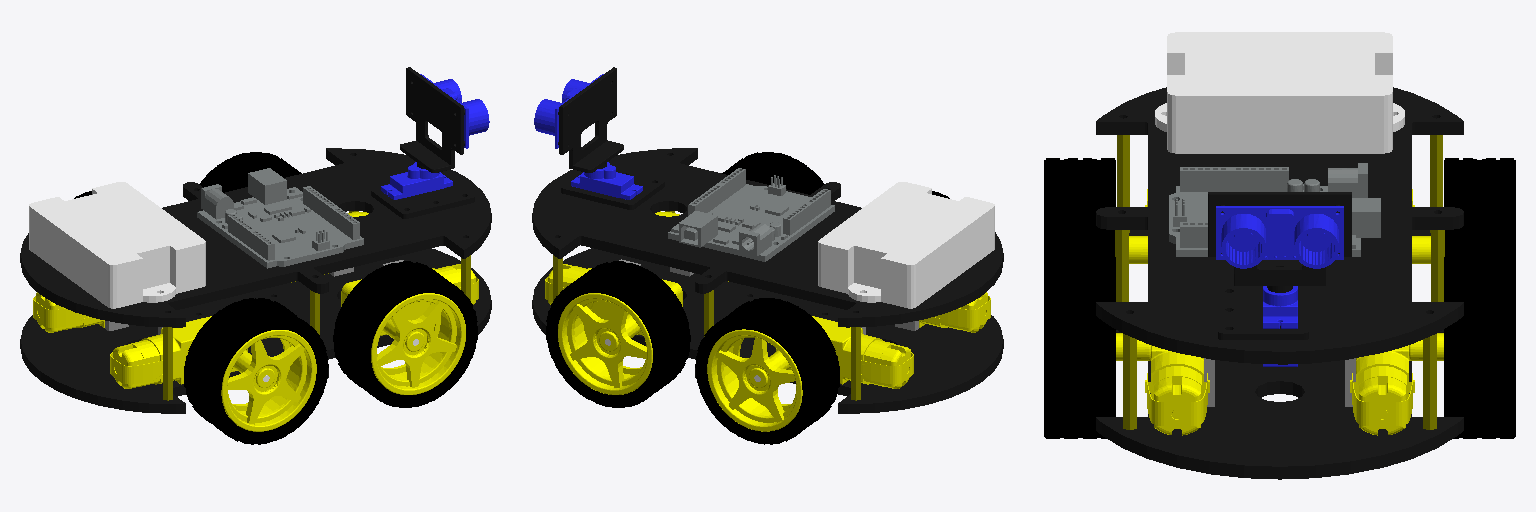
--- What the picture shows (computed from the rendered views, not written in the file) ---
3 views of the same robot in one strip: view 1: azimuth 30°, elevation 25°; view 2: azimuth 150°, elevation 25°; view 3: azimuth 270°, elevation 25° (orthographic).
Model elegoo_car_v3_description with 36 links and 35 joints (5 continuous, 30 fixed), rooted at base_link, posed every joint at zero.
Links seen in each view (by area): view 1: medium_plate, batery, base_link, arduino, neumatic_3, neumatic_4, ring_3, ring_4, ultrasonic_support, motor_3, neumatic_1, servo_base (+5 smaller); view 2: medium_plate, batery, base_link, arduino, neumatic_1, neumatic_2, ring_2, ring_1, ultrasonic_support, motor_2, neumatic_4, servo (+5 smaller); view 3: medium_plate, batery, base_link, neumatic_1, neumatic_4, arduino, ultrasonic_sensor, neumatic_2, neumatic_3, ultrasonic_support, motor_1, motor_4 (+10 smaller).
Link boxes in pixels (x1,y1,x2,y2): medium_plate: [20, 148, 491, 327]; batery: [29, 182, 205, 308]; base_link: [20, 248, 491, 413]; arduino: [197, 168, 363, 268]; neumatic_3: [184, 298, 328, 444]; neumatic_4: [333, 261, 477, 407]; ring_3: [221, 330, 316, 431]; ring_4: [371, 293, 465, 394]; ultrasonic_support: [400, 67, 464, 172]; motor_3: [110, 316, 247, 388]; neumatic_1: [199, 152, 301, 192]; servo_base: [371, 172, 474, 218]; medium_plate: [532, 148, 1003, 327]; batery: [818, 182, 994, 308]; base_link: [532, 248, 1003, 413]; arduino: [668, 168, 834, 261]; neumatic_1: [546, 261, 690, 407]; neumatic_2: [695, 298, 839, 444]; ring_2: [707, 329, 802, 431]; ring_1: [558, 293, 652, 394]; ultrasonic_support: [558, 67, 623, 172]; motor_2: [776, 316, 913, 388]; neumatic_4: [722, 152, 824, 194]; servo: [571, 162, 642, 199]; medium_plate: [1096, 87, 1463, 364]; batery: [1155, 32, 1404, 153]; base_link: [1096, 230, 1463, 479]; neumatic_1: [1444, 255, 1515, 438]; neumatic_4: [1044, 255, 1115, 438]; arduino: [1169, 163, 1380, 256]; ultrasonic_sensor: [1216, 206, 1343, 268]; neumatic_2: [1444, 158, 1515, 257]; neumatic_3: [1044, 158, 1115, 257]; ultrasonic_support: [1208, 192, 1351, 292]; motor_1: [1350, 345, 1414, 435]; motor_4: [1145, 345, 1209, 435].
Size in the robot's own frame: 0.2345 by 0.1671 by 0.1197 metres.
35 mesh visuals loaded from 35 distinct referenced files (35 binary STL).

URDF robot description (elegoo_car_v3_description):
<?xml version="1.0" encoding="utf-8"?>
<!-- This URDF was automatically created by SolidWorks to URDF Exporter! Originally created by Stephen Brawner ([email redacted]) 
     Commit Version: 1.6.0-4-g7f85cfe  Build Version: 1.6.7995.38578
     For more information, please see http://wiki.ros.org/sw_urdf_exporter -->
<robot
  name="elegoo_car_v3_description">
  <link
    name="base_link">
    <inertial>
      <origin
        xyz="7.8956E-05 3.7218E-10 0.01835"
        rpy="0 0 0" />
      <mass
        value="0.12979" />
      <inertia
        ixx="0.00011062"
        ixy="2.9142E-12"
        ixz="-9.523E-20"
        iyy="0.00055967"
        iyz="7.1958E-20"
        izz="0.00066974" />
    </inertial>
    <visual>
      <origin
        xyz="0 0 0"
        rpy="0 0 0" />
      <geometry>
        <mesh
          filename="package://elegoo_car_v3_description/meshes/base_link.STL" />
      </geometry>
      <material
        name="">
        <color
          rgba="0.1254 0.1254 0.1254 0.9" />
      </material>
    </visual>
    <collision>
      <origin
        xyz="0 0 0"
        rpy="0 0 0" />
      <geometry>
        <mesh
          filename="package://elegoo_car_v3_description/meshes/base_link.STL" />
      </geometry>
    </collision>
  </link>
  <link
    name="support_1">
    <inertial>
      <origin
        xyz="0.0206 -0.002 0.0022054"
        rpy="0 0 0" />
      <mass
        value="0.002712" />
      <inertia
        ixx="1.3812E-07"
        ixy="-1.5174E-12"
        ixz="-1.1415E-22"
        iyy="1.4133E-07"
        iyz="2.5856E-23"
        izz="1.0916E-08" />
    </inertial>
    <visual>
      <origin
        xyz="0 0 0"
        rpy="0 0 0" />
      <geometry>
        <mesh
          filename="package://elegoo_car_v3_description/meshes/support_1.STL" />
      </geometry>
      <material
        name="">
        <color
          rgba="0.6274 0.6274 0.6274 1" />
      </material>
    </visual>
    <collision>
      <origin
        xyz="0 0 0"
        rpy="0 0 0" />
      <geometry>
        <mesh
          filename="package://elegoo_car_v3_description/meshes/support_1.STL" />
      </geometry>
    </collision>
  </link>
  <joint
    name="base_to_support_1"
    type="fixed">
    <origin
      xyz="0.040775 0.027 0.03195"
      rpy="0 0 0" />
    <parent
      link="base_link" />
    <child
      link="support_1" />
    <axis
      xyz="0 0 0" />
  </joint>
  <link
    name="motor_1">
    <inertial>
      <origin
        xyz="0.020411 0.0094 2.237E-11"
        rpy="0 0 0" />
      <mass
        value="0.031419" />
      <inertia
        ixx="2.0235E-06"
        ixy="1.6886E-14"
        ixz="-1.2125E-14"
        iyy="1.1082E-05"
        iyz="-1.6357E-14"
        izz="1.0806E-05" />
    </inertial>
    <visual>
      <origin
        xyz="0 0 0"
        rpy="0 0 0" />
      <geometry>
        <mesh
          filename="package://elegoo_car_v3_description/meshes/motor_1.STL" />
      </geometry>
      <material
        name="">
        <color
          rgba="1 1 0 1" />
      </material>
    </visual>
    <collision>
      <origin
        xyz="0 0 0"
        rpy="0 0 0" />
      <geometry>
        <mesh
          filename="package://elegoo_car_v3_description/meshes/motor_1.STL" />
      </geometry>
    </collision>
  </link>
  <joint
    name="support_to_motor_1"
    type="fixed">
    <origin
      xyz="0 0 0"
      rpy="0 0 0" />
    <parent
      link="support_1" />
    <child
      link="motor_1" />
    <axis
      xyz="0 0 0" />
  </joint>
  <link
    name="shaft_1">
    <inertial>
      <origin
        xyz="0 0.02675 3.46944695195361E-18"
        rpy="0 0 0" />
      <mass
        value="0.000688404533635746" />
      <inertia
        ixx="1.64741049166689E-07"
        ixy="-4.60027404729313E-24"
        ixz="1.12714129041243E-26"
        iyy="1.08445226689306E-09"
        iyz="-1.34835384402889E-26"
        izz="1.64741049166689E-07" />
    </inertial>
    <visual>
      <origin
        xyz="0 0 0"
        rpy="0 0 0" />
      <geometry>
        <mesh
          filename="package://elegoo_car_v3_description/meshes/shaft_1.STL" />
      </geometry>
      <material
        name="">
        <color
          rgba="1 1 1 1" />
      </material>
    </visual>
    <collision>
      <origin
        xyz="0 0 0"
        rpy="0 0 0" />
      <geometry>
        <mesh
          filename="package://elegoo_car_v3_description/meshes/shaft_1.STL" />
      </geometry>
    </collision>
  </link>
  <joint
    name="motor_to_shaft_1"
    type="continuous">
    <origin
      xyz="0 0 0"
      rpy="0 0 0" />
    <parent
      link="motor_1" />
    <child
      link="shaft_1" />
    <axis
      xyz="0 1 0" />
    <limit
      effort="0.09807"
      velocity="23" />
  </joint>
  <link
    name="ring_1">
    <inertial>
      <origin
        xyz="-3.5564E-09 0.043828 -9.0266E-10"
        rpy="0 0 0" />
      <mass
        value="0.022657" />
      <inertia
        ixx="6.7493E-06"
        ixy="4.2926E-13"
        ixz="-1.1158E-12"
        iyy="1.0295E-05"
        iyz="1.0895E-13"
        izz="6.7493E-06" />
    </inertial>
    <visual>
      <origin
        xyz="0 0 0"
        rpy="0 0 0" />
      <geometry>
        <mesh
          filename="package://elegoo_car_v3_description/meshes/ring_1.STL" />
      </geometry>
      <material
        name="">
        <color
          rgba="1 1 0 1" />
      </material>
    </visual>
    <collision>
      <origin
        xyz="0 0 0"
        rpy="0 0 0" />
      <geometry>
        <mesh
          filename="package://elegoo_car_v3_description/meshes/ring_1.STL" />
      </geometry>
    </collision>
  </link>
  <joint
    name="shaft_to_ring_1"
    type="fixed">
    <origin
      xyz="0 0 0"
      rpy="0 0 0" />
    <parent
      link="shaft_1" />
    <child
      link="ring_1" />
    <axis
      xyz="0 0 0" />
    <limit
      effort="0.07845"
      velocity="23" />
  </joint>
  <link
    name="neumatic_1">
    <inertial>
      <origin
        xyz="-2.7756E-17 0.04378 1.3878E-17"
        rpy="0 0 0" />
      <mass
        value="0.038076" />
      <inertia
        ixx="1.8373E-05"
        ixy="1.3492E-17"
        ixz="3.3873E-16"
        iyy="3.2593E-05"
        iyz="-1.1594E-17"
        izz="1.8373E-05" />
    </inertial>
    <visual>
      <origin
        xyz="0 0 0"
        rpy="0 0 0" />
      <geometry>
        <mesh
          filename="package://elegoo_car_v3_description/meshes/neumatic_1.STL" />
      </geometry>
      <material
        name="">
        <color
          rgba="0 0 0 1" />
      </material>
    </visual>
    <collision>
      <origin
        xyz="0 0 0"
        rpy="0 0 0" />
      <geometry>
        <mesh
          filename="package://elegoo_car_v3_description/meshes/neumatic_1.STL" />
      </geometry>
    </collision>
  </link>
  <joint
    name="ring_to_neumatic_1"
    type="fixed">
    <origin
      xyz="0 0 0"
      rpy="0 0 0" />
    <parent
      link="ring_1" />
    <child
      link="neumatic_1" />
    <axis
      xyz="0 0 0" />
  </joint>
  <link
    name="support_2">
    <inertial>
      <origin
        xyz="-0.0206 -0.002 0.0022054"
        rpy="0 0 0" />
      <mass
        value="0.002712" />
      <inertia
        ixx="1.3812E-07"
        ixy="-1.5174E-12"
        ixz="1.9439E-22"
        iyy="1.4133E-07"
        iyz="-3.7245E-23"
        izz="1.0916E-08" />
    </inertial>
    <visual>
      <origin
        xyz="0 0 0"
        rpy="0 0 0" />
      <geometry>
        <mesh
          filename="package://elegoo_car_v3_description/meshes/support_2.STL" />
      </geometry>
      <material
        name="">
        <color
          rgba="0.6274 0.6274 0.6274 1" />
      </material>
    </visual>
    <collision>
      <origin
        xyz="0 0 0"
        rpy="0 0 0" />
      <geometry>
        <mesh
          filename="package://elegoo_car_v3_description/meshes/support_2.STL" />
      </geometry>
    </collision>
  </link>
  <joint
    name="base_to_support_2"
    type="fixed">
    <origin
      xyz="-0.040775 0.027 0.03195"
      rpy="0 0 0" />
    <parent
      link="base_link" />
    <child
      link="support_2" />
    <axis
      xyz="0 0 0" />
  </joint>
  <link
    name="motor_2">
    <inertial>
      <origin
        xyz="-0.020411 0.0094 1.0389E-11"
        rpy="0 0 0" />
      <mass
        value="0.031419" />
      <inertia
        ixx="2.0235E-06"
        ixy="1.5445E-14"
        ixz="9.891E-15"
        iyy="1.1082E-05"
        iyz="1.8979E-14"
        izz="1.0806E-05" />
    </inertial>
    <visual>
      <origin
        xyz="0 0 0"
        rpy="0 0 0" />
      <geometry>
        <mesh
          filename="package://elegoo_car_v3_description/meshes/motor_2.STL" />
      </geometry>
      <material
        name="">
        <color
          rgba="1 1 0 1" />
      </material>
    </visual>
    <collision>
      <origin
        xyz="0 0 0"
        rpy="0 0 0" />
      <geometry>
        <mesh
          filename="package://elegoo_car_v3_description/meshes/motor_2.STL" />
      </geometry>
    </collision>
  </link>
  <joint
    name="support_to_motor_2"
    type="fixed">
    <origin
      xyz="0 0 0"
      rpy="0 0 0" />
    <parent
      link="support_2" />
    <child
      link="motor_2" />
    <axis
      xyz="0 0 0" />
  </joint>
  <link
    name="shaft_2">
    <inertial>
      <origin
        xyz="6.93889390390723E-18 0.02675 0"
        rpy="0 0 0" />
      <mass
        value="0.000688404533635747" />
      <inertia
        ixx="1.64741049166689E-07"
        ixy="2.68259366052437E-24"
        ixz="5.24715774636095E-26"
        iyy="1.08445226689306E-09"
        iyz="-4.92903635132482E-25"
        izz="1.64741049166689E-07" />
    </inertial>
    <visual>
      <origin
        xyz="0 0 0"
        rpy="0 0 0" />
      <geometry>
        <mesh
          filename="package://elegoo_car_v3_description/meshes/shaft_2.STL" />
      </geometry>
      <material
        name="">
        <color
          rgba="1 1 1 1" />
      </material>
    </visual>
    <collision>
      <origin
        xyz="0 0 0"
        rpy="0 0 0" />
      <geometry>
        <mesh
          filename="package://elegoo_car_v3_description/meshes/shaft_2.STL" />
      </geometry>
    </collision>
  </link>
  <joint
    name="motor_to_shaft_2"
    type="continuous">
    <origin
      xyz="0 0 0"
      rpy="0 0 0" />
    <parent
      link="motor_2" />
    <child
      link="shaft_2" />
    <axis
      xyz="0 1 0" />
    <limit
      effort="0.09807"
      velocity="23" />
  </joint>
  <link
    name="ring_2">
    <inertial>
      <origin
        xyz="2.7485E-09 0.043828 -2.4307E-09"
        rpy="0 0 0" />
      <mass
        value="0.022657" />
      <inertia
        ixx="6.7493E-06"
        ixy="-3.3175E-13"
        ixz="1.4399E-12"
        iyy="1.0295E-05"
        iyz="2.9339E-13"
        izz="6.7493E-06" />
    </inertial>
    <visual>
      <origin
        xyz="0 0 0"
        rpy="0 0 0" />
      <geometry>
        <mesh
          filename="package://elegoo_car_v3_description/meshes/ring_2.STL" />
      </geometry>
      <material
        name="">
        <color
          rgba="1 1 0 1" />
      </material>
    </visual>
    <collision>
      <origin
        xyz="0 0 0"
        rpy="0 0 0" />
      <geometry>
        <mesh
          filename="package://elegoo_car_v3_description/meshes/ring_2.STL" />
      </geometry>
    </collision>
  </link>
  <joint
    name="shaft_to_ring_2"
    type="fixed">
    <origin
      xyz="0 0 0"
      rpy="0 0 0" />
    <parent
      link="shaft_2" />
    <child
      link="ring_2" />
    <axis
      xyz="0 0 0" />
    <limit
      effort="0.07845"
      velocity="23" />
  </joint>
  <link
    name="neumatic_2">
    <inertial>
      <origin
        xyz="6.9389E-18 0.04378 2.0817E-17"
        rpy="0 0 0" />
      <mass
        value="0.038076" />
      <inertia
        ixx="1.8373E-05"
        ixy="7.4015E-18"
        ixz="-2.6398E-16"
        iyy="3.2593E-05"
        iyz="-1.6176E-17"
        izz="1.8373E-05" />
    </inertial>
    <visual>
      <origin
        xyz="0 0 0"
        rpy="0 0 0" />
      <geometry>
        <mesh
          filename="package://elegoo_car_v3_description/meshes/neumatic_2.STL" />
      </geometry>
      <material
        name="">
        <color
          rgba="0 0 0 1" />
      </material>
    </visual>
    <collision>
      <origin
        xyz="0 0 0"
        rpy="0 0 0" />
      <geometry>
        <mesh
          filename="package://elegoo_car_v3_description/meshes/neumatic_2.STL" />
      </geometry>
    </collision>
  </link>
  <joint
    name="ring_to_neumatic_2"
    type="fixed">
    <origin
      xyz="0 0 0"
      rpy="0 0 0" />
    <parent
      link="ring_2" />
    <child
      link="neumatic_2" />
    <axis
      xyz="0 0 0" />
  </joint>
  <link
    name="support_3">
    <inertial>
      <origin
        xyz="-0.0206 0.002 0.0022054"
        rpy="0 0 0" />
      <mass
        value="0.002712" />
      <inertia
        ixx="1.3812E-07"
        ixy="-1.5174E-12"
        ixz="1.2242E-22"
        iyy="1.4133E-07"
        iyz="2.0553E-23"
        izz="1.0916E-08" />
    </inertial>
    <visual>
      <origin
        xyz="0 0 0"
        rpy="0 0 0" />
      <geometry>
        <mesh
          filename="package://elegoo_car_v3_description/meshes/support_3.STL" />
      </geometry>
      <material
        name="">
        <color
          rgba="0.6274 0.6274 0.6274 1" />
      </material>
    </visual>
    <collision>
      <origin
        xyz="0 0 0"
        rpy="0 0 0" />
      <geometry>
        <mesh
          filename="package://elegoo_car_v3_description/meshes/support_3.STL" />
      </geometry>
    </collision>
  </link>
  <joint
    name="base_to_support_3"
    type="fixed">
    <origin
      xyz="-0.040775 -0.027 0.03195"
      rpy="0 0 0" />
    <parent
      link="base_link" />
    <child
      link="support_3" />
    <axis
      xyz="0 0 0" />
  </joint>
  <link
    name="motor_3">
    <inertial>
      <origin
        xyz="-0.020411 -0.0094 2.237E-11"
        rpy="0 0 0" />
      <mass
        value="0.031419" />
      <inertia
        ixx="2.0235E-06"
        ixy="1.6886E-14"
        ixz="1.2125E-14"
        iyy="1.1082E-05"
        iyz="1.6357E-14"
        izz="1.0806E-05" />
    </inertial>
    <visual>
      <origin
        xyz="0 0 0"
        rpy="0 0 0" />
      <geometry>
        <mesh
          filename="package://elegoo_car_v3_description/meshes/motor_3.STL" />
      </geometry>
      <material
        name="">
        <color
          rgba="1 1 0 1" />
      </material>
    </visual>
    <collision>
      <origin
        xyz="0 0 0"
        rpy="0 0 0" />
      <geometry>
        <mesh
          filename="package://elegoo_car_v3_description/meshes/motor_3.STL" />
      </geometry>
    </collision>
  </link>
  <joint
    name="support_to_motor_3"
    type="fixed">
    <origin
      xyz="0 0 0"
      rpy="0 0 0" />
    <parent
      link="support_3" />
    <child
      link="motor_3" />
    <axis
      xyz="0 0 0" />
  </joint>
  <link
    name="shaft_3">
    <inertial>
      <origin
        xyz="6.93889390390723E-18 -0.02675 0"
        rpy="0 0 0" />
      <mass
        value="0.000688404533635747" />
      <inertia
        ixx="1.64741049166689E-07"
        ixy="-4.60027404729314E-24"
        ixz="7.87248683893647E-26"
        iyy="1.08445226689306E-09"
        iyz="1.33338562613337E-25"
        izz="1.64741049166689E-07" />
    </inertial>
    <visual>
      <origin
        xyz="0 0 0"
        rpy="0 0 0" />
      <geometry>
        <mesh
          filename="package://elegoo_car_v3_description/meshes/shaft_3.STL" />
      </geometry>
      <material
        name="">
        <color
          rgba="1 1 1 1" />
      </material>
    </visual>
    <collision>
      <origin
        xyz="0 0 0"
        rpy="0 0 0" />
      <geometry>
        <mesh
          filename="package://elegoo_car_v3_description/meshes/shaft_3.STL" />
      </geometry>
    </collision>
  </link>
  <joint
    name="motor_to_shaft_3"
    type="continuous">
    <origin
      xyz="0 0 0"
      rpy="0 0 0" />
    <parent
      link="motor_3" />
    <child
      link="shaft_3" />
    <axis
      xyz="0 1 0" />
    <limit
      effort="0.09807"
      velocity="23" />
  </joint>
  <link
    name="ring_3">
    <inertial>
      <origin
        xyz="-3.5564E-09 -0.043828 9.0266E-10"
        rpy="0 0 0" />
      <mass
        value="0.022657" />
      <inertia
        ixx="6.7493E-06"
        ixy="-4.2926E-13"
        ixz="1.1158E-12"
        iyy="1.0295E-05"
        iyz="1.0895E-13"
        izz="6.7493E-06" />
    </inertial>
    <visual>
      <origin
        xyz="0 0 0"
        rpy="0 0 0" />
      <geometry>
        <mesh
          filename="package://elegoo_car_v3_description/meshes/ring_3.STL" />
      </geometry>
      <material
        name="">
        <color
          rgba="1 1 0 1" />
      </material>
    </visual>
    <collision>
      <origin
        xyz="0 0 0"
        rpy="0 0 0" />
      <geometry>
        <mesh
          filename="package://elegoo_car_v3_description/meshes/ring_3.STL" />
      </geometry>
    </collision>
  </link>
  <joint
    name="shaft_to_ring_3"
    type="fixed">
    <origin
      xyz="0 0 0"
      rpy="0 0 0" />
    <parent
      link="shaft_3" />
    <child
      link="ring_3" />
    <axis
      xyz="0 0 0" />
    <limit
      effort="0.07845"
      velocity="23" />
  </joint>
  <link
    name="neumatic_3">
    <inertial>
      <origin
        xyz="1.3878E-17 -0.04378 2.4286E-17"
        rpy="0 0 0" />
      <mass
        value="0.038076" />
      <inertia
        ixx="1.8373E-05"
        ixy="1.3484E-17"
        ixz="-3.3873E-16"
        iyy="3.2593E-05"
        iyz="1.1589E-17"
        izz="1.8373E-05" />
    </inertial>
    <visual>
      <origin
        xyz="0 0 0"
        rpy="0 0 0" />
      <geometry>
        <mesh
          filename="package://elegoo_car_v3_description/meshes/neumatic_3.STL" />
      </geometry>
      <material
        name="">
        <color
          rgba="0 0 0 1" />
      </material>
    </visual>
    <collision>
      <origin
        xyz="0 0 0"
        rpy="0 0 0" />
      <geometry>
        <mesh
          filename="package://elegoo_car_v3_description/meshes/neumatic_3.STL" />
      </geometry>
    </collision>
  </link>
  <joint
    name="ring_to_neumatic_3"
    type="fixed">
    <origin
      xyz="0 0 0"
      rpy="0 0 0" />
    <parent
      link="ring_3" />
    <child
      link="neumatic_3" />
    <axis
      xyz="0 0 0" />
  </joint>
  <link
    name="suppport_4">
    <inertial>
      <origin
        xyz="0.0206 0.002 0.0022054"
        rpy="0 0 0" />
      <mass
        value="0.002712" />
      <inertia
        ixx="1.3812E-07"
        ixy="-1.5174E-12"
        ixz="-1.9646E-22"
        iyy="1.4133E-07"
        iyz="2.1907E-24"
        izz="1.0916E-08" />
    </inertial>
    <visual>
      <origin
        xyz="0 0 0"
        rpy="0 0 0" />
      <geometry>
        <mesh
          filename="package://elegoo_car_v3_description/meshes/suppport_4.STL" />
      </geometry>
      <material
        name="">
        <color
          rgba="0.6274 0.6274 0.6274 1" />
      </material>
    </visual>
    <collision>
      <origin
        xyz="0 0 0"
        rpy="0 0 0" />
      <geometry>
        <mesh
          filename="package://elegoo_car_v3_description/meshes/suppport_4.STL" />
      </geometry>
    </collision>
  </link>
  <joint
    name="base_to_support_4"
    type="fixed">
    <origin
      xyz="0.040775 -0.027 0.03195"
      rpy="0 0 0" />
    <parent
      link="base_link" />
    <child
      link="suppport_4" />
    <axis
      xyz="0 0 0" />
  </joint>
  <link
    name="motor_4">
    <inertial>
      <origin
        xyz="0.020411 -0.0094 1.0389E-11"
        rpy="0 0 0" />
      <mass
        value="0.031419" />
      <inertia
        ixx="2.0235E-06"
        ixy="1.5445E-14"
        ixz="-9.891E-15"
        iyy="1.1082E-05"
        iyz="-1.8979E-14"
        izz="1.0806E-05" />
    </inertial>
    <visual>
      <origin
        xyz="0 0 0"
        rpy="0 0 0" />
      <geometry>
        <mesh
          filename="package://elegoo_car_v3_description/meshes/motor_4.STL" />
      </geometry>
      <material
        name="">
        <color
          rgba="1 1 0 1" />
      </material>
    </visual>
    <collision>
      <origin
        xyz="0 0 0"
        rpy="0 0 0" />
      <geometry>
        <mesh
          filename="package://elegoo_car_v3_description/meshes/motor_4.STL" />
      </geometry>
    </collision>
  </link>
  <joint
    name="support_to_motor_4"
    type="fixed">
    <origin
      xyz="0 0 0"
      rpy="0 0 0" />
    <parent
      link="suppport_4" />
    <child
      link="motor_4" />
    <axis
      xyz="0 0 0" />
  </joint>
  <link
    name="shaft_4">
    <inertial>
      <origin
        xyz="0 -0.02675 3.46944695195361E-18"
        rpy="0 0 0" />
      <mass
        value="0.000688404533635747" />
      <inertia
        ixx="1.64741049166689E-07"
        ixy="2.68259366052437E-24"
        ixz="-5.24715774636095E-26"
        iyy="1.08445226689306E-09"
        iyz="4.92903635132482E-25"
        izz="1.64741049166689E-07" />
    </inertial>
    <visual>
      <origin
        xyz="0 0 0"
        rpy="0 0 0" />
      <geometry>
        <mesh
          filename="package://elegoo_car_v3_description/meshes/shaft_4.STL" />
      </geometry>
      <material
        name="">
        <color
          rgba="1 1 1 1" />
      </material>
    </visual>
    <collision>
      <origin
        xyz="0 0 0"
        rpy="0 0 0" />
      <geometry>
        <mesh
          filename="package://elegoo_car_v3_description/meshes/shaft_4.STL" />
      </geometry>
    </collision>
  </link>
  <joint
    name="motor_to_shaft_4"
    type="continuous">
    <origin
      xyz="0 0 0"
      rpy="0 0 0" />
    <parent
      link="motor_4" />
    <child
      link="shaft_4" />
    <axis
      xyz="0 1 0" />
    <limit
      effort="0.09807"
      velocity="23" />
  </joint>
  <link
    name="ring_4">
    <inertial>
      <origin
        xyz="2.7485E-09 -0.043828 2.4307E-09"
        rpy="0 0 0" />
      <mass
        value="0.022657" />
      <inertia
        ixx="6.7493E-06"
        ixy="3.3175E-13"
        ixz="-1.4399E-12"
        iyy="1.0295E-05"
        iyz="2.9339E-13"
        izz="6.7493E-06" />
    </inertial>
    <visual>
      <origin
        xyz="0 0 0"
        rpy="0 0 0" />
      <geometry>
        <mesh
          filename="package://elegoo_car_v3_description/meshes/ring_4.STL" />
      </geometry>
      <material
        name="">
        <color
          rgba="1 1 0 1" />
      </material>
    </visual>
    <collision>
      <origin
        xyz="0 0 0"
        rpy="0 0 0" />
      <geometry>
        <mesh
          filename="package://elegoo_car_v3_description/meshes/ring_4.STL" />
      </geometry>
    </collision>
  </link>
  <joint
    name="shaft_to_ring_4"
    type="fixed">
    <origin
      xyz="0 0 0"
      rpy="0 0 0" />
    <parent
      link="shaft_4" />
    <child
      link="ring_4" />
    <axis
      xyz="0 0 0" />
    <limit
      effort="0.07845"
      velocity="23" />
  </joint>
  <link
    name="neumatic_4">
    <inertial>
      <origin
        xyz="0 -0.04378 2.4286E-17"
        rpy="0 0 0" />
      <mass
        value="0.038076" />
      <inertia
        ixx="1.8373E-05"
        ixy="7.4015E-18"
        ixz="2.6398E-16"
        iyy="3.2593E-05"
        iyz="1.6176E-17"
        izz="1.8373E-05" />
    </inertial>
    <visual>
      <origin
        xyz="0 0 0"
        rpy="0 0 0" />
      <geometry>
        <mesh
          filename="package://elegoo_car_v3_description/meshes/neumatic_4.STL" />
      </geometry>
      <material
        name="">
        <color
          rgba="0 0 0 1" />
      </material>
    </visual>
    <collision>
      <origin
        xyz="0 0 0"
        rpy="0 0 0" />
      <geometry>
        <mesh
          filename="package://elegoo_car_v3_description/meshes/neumatic_4.STL" />
      </geometry>
    </collision>
  </link>
  <joint
    name="ring_to_neumatic_4"
    type="fixed">
    <origin
      xyz="0 0 0"
      rpy="0 0 0" />
    <parent
      link="ring_4" />
    <child
      link="neumatic_4" />
    <axis
      xyz="0 0 0" />
  </joint>
  <link
    name="hex_support_1">
    <inertial>
      <origin
        xyz="0.08395 0.05315 0.04085"
        rpy="0 0 0" />
      <mass
        value="0.0055008" />
      <inertia
        ixx="6.5676E-07"
        ixy="-4.8058E-13"
        ixz="-1.0193E-12"
        iyy="6.5677E-07"
        iyz="1.1258E-12"
        izz="1.9767E-08" />
    </inertial>
    <visual>
      <origin
        xyz="0 0 0"
        rpy="0 0 0" />
      <geometry>
        <mesh
          filename="package://elegoo_car_v3_description/meshes/hex_support_1.STL" />
      </geometry>
      <material
        name="">
        <color
          rgba="0.6 0.6 0 1" />
      </material>
    </visual>
    <collision>
      <origin
        xyz="0 0 0"
        rpy="0 0 0" />
      <geometry>
        <mesh
          filename="package://elegoo_car_v3_description/meshes/hex_support_1.STL" />
      </geometry>
    </collision>
  </link>
  <joint
    name="base_to_hex_support_1"
    type="fixed">
    <origin
      xyz="0 0 0"
      rpy="0 0 0" />
    <parent
      link="base_link" />
    <child
      link="hex_support_1" />
    <axis
      xyz="0 0 0" />
  </joint>
  <link
    name="hex_support_2">
    <inertial>
      <origin
        xyz="2.0042E-08 0.05605 0.04085"
        rpy="0 0 0" />
      <mass
        value="0.0055008" />
      <inertia
        ixx="6.5677E-07"
        ixy="1.1972E-12"
        ixz="4.6533E-13"
        iyy="6.5677E-07"
        iyz="1.4457E-12"
        izz="1.9767E-08" />
    </inertial>
    <visual>
      <origin
        xyz="0 0 0"
        rpy="0 0 0" />
      <geometry>
        <mesh
          filename="package://elegoo_car_v3_description/meshes/hex_support_2.STL" />
      </geometry>
      <material
        name="">
        <color
          rgba="0.6 0.6 0 1" />
      </material>
    </visual>
    <collision>
      <origin
        xyz="0 0 0"
        rpy="0 0 0" />
      <geometry>
        <mesh
          filename="package://elegoo_car_v3_description/meshes/hex_support_2.STL" />
      </geometry>
    </collision>
  </link>
  <joint
    name="base_to_hex_support_2"
    type="fixed">
    <origin
      xyz="0 0 0"
      rpy="0 0 0" />
    <parent
      link="base_link" />
    <child
      link="hex_support_2" />
    <axis
      xyz="0 0 0" />
  </joint>
  <link
    name="hex_support_3">
    <inertial>
      <origin
        xyz="-0.08005 0.05555 0.04085"
        rpy="0 0 0" />
      <mass
        value="0.0055008" />
      <inertia
        ixx="6.5677E-07"
        ixy="1.1972E-12"
        ixz="4.6533E-13"
        iyy="6.5677E-07"
        iyz="1.4457E-12"
        izz="1.9767E-08" />
    </inertial>
    <visual>
      <origin
        xyz="0 0 0"
        rpy="0 0 0" />
      <geometry>
        <mesh
          filename="package://elegoo_car_v3_description/meshes/hex_support_3.STL" />
      </geometry>
      <material
        name="">
        <color
          rgba="0.6 0.6 0 1" />
      </material>
    </visual>
    <collision>
      <origin
        xyz="0 0 0"
        rpy="0 0 0" />
      <geometry>
        <mesh
          filename="package://elegoo_car_v3_description/meshes/hex_support_3.STL" />
      </geometry>
    </collision>
  </link>
  <joint
    name="base_to_hex_support_3"
    type="fixed">
    <origin
      xyz="0 0 0"
      rpy="0 0 0" />
    <parent
      link="base_link" />
    <child
      link="hex_support_3" />
    <axis
      xyz="0 0 0" />
  </joint>
  <link
    name="hex_support_4">
    <inertial>
      <origin
        xyz="-0.08005 -0.05555 0.04085"
        rpy="0 0 0" />
      <mass
        value="0.0055008" />
      <inertia
        ixx="6.5677E-07"
        ixy="-1.1972E-12"
        ixz="-4.6533E-13"
        iyy="6.5677E-07"
        iyz="1.4457E-12"
        izz="1.9767E-08" />
    </inertial>
    <visual>
      <origin
        xyz="0 0 0"
        rpy="0 0 0" />
      <geometry>
        <mesh
          filename="package://elegoo_car_v3_description/meshes/hex_support_4.STL" />
      </geometry>
      <material
        name="">
        <color
          rgba="0.6 0.6 0 1" />
      </material>
    </visual>
    <collision>
      <origin
        xyz="0 0 0"
        rpy="0 0 0" />
      <geometry>
        <mesh
          filename="package://elegoo_car_v3_description/meshes/hex_support_4.STL" />
      </geometry>
    </collision>
  </link>
  <joint
    name="base_to_hex_support_4"
    type="fixed">
    <origin
      xyz="0 0 0"
      rpy="0 0 0" />
    <parent
      link="base_link" />
    <child
      link="hex_support_4" />
    <axis
      xyz="0 0 0" />
  </joint>
  <link
    name="hex_support_5">
    <inertial>
      <origin
        xyz="2.0042E-08 -0.05605 0.04085"
        rpy="0 0 0" />
      <mass
        value="0.0055008" />
      <inertia
        ixx="6.5677E-07"
        ixy="-1.1972E-12"
        ixz="-4.6533E-13"
        iyy="6.5677E-07"
        iyz="1.4457E-12"
        izz="1.9767E-08" />
    </inertial>
    <visual>
      <origin
        xyz="0 0 0"
        rpy="0 0 0" />
      <geometry>
        <mesh
          filename="package://elegoo_car_v3_description/meshes/hex_support_5.STL" />
      </geometry>
      <material
        name="">
        <color
          rgba="0.6 0.6 0 1" />
      </material>
    </visual>
    <collision>
      <origin
        xyz="0 0 0"
        rpy="0 0 0" />
      <geometry>
        <mesh
          filename="package://elegoo_car_v3_description/meshes/hex_support_5.STL" />
      </geometry>
    </collision>
  </link>
  <joint
    name="base_to_hex_support_5"
    type="fixed">
    <origin
      xyz="0 0 0"
      rpy="0 0 0" />
    <parent
      link="base_link" />
    <child
      link="hex_support_5" />
    <axis
      xyz="0 0 0" />
  </joint>
  <link
    name="hex_support_6">
    <inertial>
      <origin
        xyz="0.08395 -0.05315 0.04085"
        rpy="0 0 0" />
      <mass
        value="0.0055008" />
      <inertia
        ixx="6.5676E-07"
        ixy="4.8058E-13"
        ixz="1.0193E-12"
        iyy="6.5677E-07"
        iyz="1.1258E-12"
        izz="1.9767E-08" />
    </inertial>
    <visual>
      <origin
        xyz="0 0 0"
        rpy="0 0 0" />
      <geometry>
        <mesh
          filename="package://elegoo_car_v3_description/meshes/hex_support_6.STL" />
      </geometry>
      <material
        name="">
        <color
          rgba="0.6 0.6 0 1" />
      </material>
    </visual>
    <collision>
      <origin
        xyz="0 0 0"
        rpy="0 0 0" />
      <geometry>
        <mesh
          filename="package://elegoo_car_v3_description/meshes/hex_support_6.STL" />
      </geometry>
    </collision>
  </link>
  <joint
    name="base_to_hex_support_6"
    type="fixed">
    <origin
      xyz="0 0 0"
      rpy="0 0 0" />
    <parent
      link="base_link" />
    <child
      link="hex_support_6" />
    <axis
      xyz="0 0 0" />
  </joint>
  <link
    name="medium_plate">
    <inertial>
      <origin
        xyz="0 0 0"
        rpy="0 0 0" />
      <mass
        value="0" />
      <inertia
        ixx="0"
        ixy="0"
        ixz="0"
        iyy="0"
        iyz="0"
        izz="0" />
    </inertial>
    <visual>
      <origin
        xyz="0 0 0"
        rpy="0 0 0" />
      <geometry>
        <mesh
          filename="package://elegoo_car_v3_description/meshes/medium_plate.STL" />
      </geometry>
      <material
        name="">
        <color
          rgba="0.1254 0.1254 0.1254 1" />
      </material>
    </visual>
    <collision>
      <origin
        xyz="0 0 0"
        rpy="0 0 0" />
      <geometry>
        <mesh
          filename="package://elegoo_car_v3_description/meshes/medium_plate.STL" />
      </geometry>
    </collision>
  </link>
  <joint
    name="base_to_medium_plate"
    type="fixed">
    <origin
      xyz="0 0 0"
      rpy="0 0 0" />
    <parent
      link="base_link" />
    <child
      link="medium_plate" />
    <axis
      xyz="0 0 0" />
  </joint>
  <link
    name="batery">
    <inertial>
      <origin
        xyz="-0.0756 -2.57123578269955E-16 0.0770886438964631"
        rpy="0 0 0" />
      <mass
        value="0.11955814092686" />
      <inertia
        ixx="6.44366513889035E-05"
        ixy="1.00749461501455E-19"
        ixz="-1.40949949997757E-22"
        iyy="3.41583566343059E-05"
        iyz="4.1091423456621E-22"
        izz="8.81872221606157E-05" />
    </inertial>
    <visual>
      <origin
        xyz="0 0 0"
        rpy="0 0 0" />
      <geometry>
        <mesh
          filename="package://elegoo_car_v3_description/meshes/batery.STL" />
      </geometry>
      <material
        name="">
        <color
          rgba="1 1 1 1" />
      </material>
    </visual>
    <collision>
      <origin
        xyz="0 0 0"
        rpy="0 0 0" />
      <geometry>
        <mesh
          filename="package://elegoo_car_v3_description/meshes/batery.STL" />
      </geometry>
    </collision>
  </link>
  <joint
    name="medium_plate_to_batey"
    type="fixed">
    <origin
      xyz="0 0 0"
      rpy="0 0 0" />
    <parent
      link="medium_plate" />
    <child
      link="batery" />
    <axis
      xyz="0 0 0" />
  </joint>
  <link
    name="arduino">
    <inertial>
      <origin
        xyz="0.0113638835773716 -0.00145317601065383 0.0691161344023989"
        rpy="0 0 0" />
      <mass
        value="0.0368263873637664" />
      <inertia
        ixx="1.61184372892082E-05"
        ixy="-1.48754035200814E-07"
        ixz="-2.26027282617775E-08"
        iyy="1.01914424989913E-05"
        iyz="-5.69833304502954E-07"
        izz="2.55986783826354E-05" />
    </inertial>
    <visual>
      <origin
        xyz="0 0 0"
        rpy="0 0 0" />
      <geometry>
        <mesh
          filename="package://elegoo_car_v3_description/meshes/arduino.STL" />
      </geometry>
      <material
        name="">
        <color
          rgba="0.529411764705882 0.549019607843137 0.549019607843137 1" />
      </material>
    </visual>
    <collision>
      <origin
        xyz="0 0 0"
        rpy="0 0 0" />
      <geometry>
        <mesh
          filename="package://elegoo_car_v3_description/meshes/arduino.STL" />
      </geometry>
    </collision>
  </link>
  <joint
    name="medium_plate_to_arduino"
    type="fixed">
    <origin
      xyz="0 0 0"
      rpy="0 0 0" />
    <parent
      link="medium_plate" />
    <child
      link="arduino" />
    <axis
      xyz="0 0 0" />
  </joint>
  <link
    name="servo_base">
    <inertial>
      <origin
        xyz="-0.00515 -0.0073693 -0.0157"
        rpy="0 0 0" />
      <mass
        value="0.0034312" />
      <inertia
        ixx="3.3119E-07"
        ixy="-3.8092E-23"
        ixz="1.5854E-24"
        iyy="5.3664E-07"
        iyz="-3.1888E-24"
        izz="8.6366E-07" />
    </inertial>
    <visual>
      <origin
        xyz="0 0 0"
        rpy="0 0 0" />
      <geometry>
        <mesh
          filename="package://elegoo_car_v3_description/meshes/servo_base.STL" />
      </geometry>
      <material
        name="">
        <color
          rgba="0.1254 0.1254 0.1254 1" />
      </material>
    </visual>
    <collision>
      <origin
        xyz="0 0 0"
        rpy="0 0 0" />
      <geometry>
        <mesh
          filename="package://elegoo_car_v3_description/meshes/servo_base.STL" />
      </geometry>
    </collision>
  </link>
  <joint
    name="medium_plate_to_servo_base"
    type="fixed">
    <origin
      xyz="0.09295 0.0001 0.0829"
      rpy="0 0 0" />
    <parent
      link="medium_plate" />
    <child
      link="servo_base" />
    <axis
      xyz="0 0 0" />
  </joint>
  <link
    name="servo">
    <inertial>
      <origin
        xyz="-0.0048466 -4.6202E-10 -0.018288"
        rpy="0 0 0" />
      <mass
        value="0.0091401" />
      <inertia
        ixx="6.3298E-07"
        ixy="-2.0846E-15"
        ixz="-3.5208E-08"
        iyy="9.5399E-07"
        iyz="3.6389E-14"
        izz="5.5455E-07" />
    </inertial>
    <visual>
      <origin
        xyz="0 0 0"
        rpy="0 0 0" />
      <geometry>
        <mesh
          filename="package://elegoo_car_v3_description/meshes/servo.STL" />
      </geometry>
      <material
        name="">
        <color
          rgba="0.2 0.2 1 0.9" />
      </material>
    </visual>
    <collision>
      <origin
        xyz="0 0 0"
        rpy="0 0 0" />
      <geometry>
        <mesh
          filename="package://elegoo_car_v3_description/meshes/servo.STL" />
      </geometry>
    </collision>
  </link>
  <joint
    name="servo_base_to_servo"
    type="fixed">
    <origin
      xyz="0 0 0"
      rpy="0 0 0" />
    <parent
      link="servo_base" />
    <child
      link="servo" />
    <axis
      xyz="0 0 0" />
  </joint>
  <link
    name="servo_shaft">
    <inertial>
      <origin
        xyz="0 2.7105E-20 -0.00325"
        rpy="0 0 0" />
      <mass
        value="0.00017405" />
      <inertia
        ixx="8.74E-10"
        ixy="1.6327E-26"
        ixz="3.1812E-26"
        iyy="8.74E-10"
        iyz="-1.5906E-26"
        izz="5.2238E-10" />
    </inertial>
    <visual>
      <origin
        xyz="0 0 0"
        rpy="0 0 0" />
      <geometry>
        <mesh
          filename="package://elegoo_car_v3_description/meshes/servo_shaft.STL" />
      </geometry>
      <material
        name="">
        <color
          rgba="0.1254 0.1254 0.1254 1" />
      </material>
    </visual>
    <collision>
      <origin
        xyz="0 0 0"
        rpy="0 0 0" />
      <geometry>
        <mesh
          filename="package://elegoo_car_v3_description/meshes/servo_shaft.STL" />
      </geometry>
    </collision>
  </link>
  <joint
    name="servo_to_shaft"
    type="continuous">
    <origin
      xyz="0 0 0"
      rpy="0 0 0" />
    <parent
      link="servo" />
    <child
      link="servo_shaft" />
    <axis
      xyz="0 0 1" />
    <limit
      lower="-1.571"
      upper="1.571"
      effort="0.0907"
      velocity="0.7" />
  </joint>
  <link
    name="ultrasonic_support">
    <inertial>
      <origin
        xyz="0.0037659 -6.4258E-07 0.016271"
        rpy="0 0 0" />
      <mass
        value="0.0052953" />
      <inertia
        ixx="1.7319E-06"
        ixy="-5.2305E-10"
        ixz="-1.0423E-07"
        iyy="8.2025E-07"
        iyz="-5.2331E-13"
        izz="9.9478E-07" />
    </inertial>
    <visual>
      <origin
        xyz="0 0 0"
        rpy="0 0 0" />
      <geometry>
        <mesh
          filename="package://elegoo_car_v3_description/meshes/ultrasonic_support.STL" />
      </geometry>
      <material
        name="">
        <color
          rgba="0.1254 0.1254 0.1254 1" />
      </material>
    </visual>
    <collision>
      <origin
        xyz="0 0 0"
        rpy="0 0 0" />
      <geometry>
        <mesh
          filename="package://elegoo_car_v3_description/meshes/ultrasonic_support.STL" />
      </geometry>
    </collision>
  </link>
  <joint
    name="servo_shaft_to_ultrasonic_support"
    type="fixed">
    <origin
      xyz="0 0 0"
      rpy="0 0 0" />
    <parent
      link="servo_shaft" />
    <child
      link="ultrasonic_support" />
    <axis
      xyz="0 0 0" />
  </joint>
  <link
    name="ultrasonic_sensor">
    <inertial>
      <origin
        xyz="0.013019 -7.4444E-06 0.022811"
        rpy="0 0 0" />
      <mass
        value="0.010497" />
      <inertia
        ixx="2.1159E-06"
        ixy="-9.5555E-10"
        ixz="2.1483E-09"
        iyy="4.4472E-07"
        iyz="-1.2284E-12"
        izz="1.9912E-06" />
    </inertial>
    <visual>
      <origin
        xyz="0 0 0"
        rpy="0 0 0" />
      <geometry>
        <mesh
          filename="package://elegoo_car_v3_description/meshes/ultrasonic_sensor.STL" />
      </geometry>
      <material
        name="">
        <color
          rgba="0.2 0.2 1 1" />
      </material>
    </visual>
    <collision>
      <origin
        xyz="0 0 0"
        rpy="0 0 0" />
      <geometry>
        <mesh
          filename="package://elegoo_car_v3_description/meshes/ultrasonic_sensor.STL" />
      </geometry>
    </collision>
  </link>
  <joint
    name="ultrasonic_support_to_ultrasonic_sensor"
    type="fixed">
    <origin
      xyz="0 0 0"
      rpy="0 0 0" />
    <parent
      link="ultrasonic_support" />
    <child
      link="ultrasonic_sensor" />
    <axis
      xyz="0 0 0" />
  </joint>
  <link name="ultrasonic_sensor_fake"/>
  <joint 
    name="joint_ultrasonic_fake" 
    type="fixed">
    <origin
      xyz="0.02 0 0.04"  
      rpy="0 -1.57 0"/>
    <parent
      link="ultrasonic_support" />
    <child 
     link="ultrasonic_sensor_fake" />
  </joint>

  <!-- Transmission definition for motors -->
  <transmission name="motor_to_shaft_1_transmission">
    <type>transmission_interface/SimpleTransmission</type>
    <joint name="motor_to_shaft_1_wheel_joint">
        <hardwareInterface>VelocityJointInterface</hardwareInterface>
    </joint>
    <actuator name="motor_to_shaft_1_motor">
        <mechanicalReduction>1</mechanicalReduction>
    </actuator>
  </transmission>
  <transmission name="motor_to_shaft_2_transmission">
    <type>transmission_interface/SimpleTransmission</type>
    <joint name="motor_to_shaft_2_wheel_joint">
        <hardwareInterface>VelocityJointInterface</hardwareInterface>
    </joint>
    <actuator name="motor_to_shaft_2_motor">
        <mechanicalReduction>1</mechanicalReduction>
    </actuator>
  </transmission>
  <transmission name="motor_to_shaft_3_transmission">
    <type>transmission_interface/SimpleTransmission</type>
    <joint name="motor_to_shaft_3_wheel_joint">
        <hardwareInterface>VelocityJointInterface</hardwareInterface>
    </joint>
    <actuator name="motor_to_shaft_3_motor">
        <mechanicalReduction>1</mechanicalReduction>
    </actuator>
  </transmission>
  <transmission name="motor_to_shaft_4_transmission">
    <type>transmission_interface/SimpleTransmission</type>
    <joint name="motor_to_shaft_4_wheel_joint">
        <hardwareInterface>VelocityJointInterface</hardwareInterface>
    </joint>
    <actuator name="motor_to_shaft_4_motor">
        <mechanicalReduction>1</mechanicalReduction>
    </actuator>
  </transmission>
  <transmission name="servo_to_shaft_transmission">
    <type>transmission_interface/SimpleTransmission</type>
    <joint name="servo_to_shaft">
        <hardwareInterface>VelocityJointInterface</hardwareInterface>
    </joint>
    <actuator name="servo_to_shaft_motor">
        <mechanicalReduction>1</mechanicalReduction>
    </actuator>
  </transmission>
  
  <!-- Gazebo controller for 4 wheeled robot -->
  <gazebo>
    <plugin name="skid_steer_drive_controller" filename="libgazebo_ros_skid_steer_drive.so">
      <updateRate>100.0</updateRate>
      <robotNamespace>/</robotNamespace>
      <leftFrontJoint>motor_to_shaft_1</leftFrontJoint>
      <rightFrontJoint>motor_to_shaft_4</rightFrontJoint>
      <rightRearJoint>motor_to_shaft_3</rightRearJoint>
      <leftRearJoint>motor_to_shaft_2</leftRearJoint>
      <wheelSeparation>0.11631</wheelSeparation>
      <wheelDiameter>0.06405</wheelDiameter>
      <robotBaseFrame>base_link</robotBaseFrame>
      <torque>20</torque>
      <topicName>cmd_vel</topicName>
      <broadcastTF>true</broadcastTF>
      <covariance_x>0.0001</covariance_x>
      <covariance_y>0.0001</covariance_y>
      <covariance_yaw>0.01</covariance_yaw>
      <topicName>cmd_vel</topicName>
      <commandTopic>cmd_vel</commandTopic>
      <odometryTopic>odom</odometryTopic>
      <odometryFrame>odom</odometryFrame>
      <topic_name_joint>joint</topic_name_joint>
    </plugin>
  </gazebo>

  <!-- Gazebo plugin for robot sonar -->
  <gazebo reference="ultrasonic_sensor_fake">
     <sensor type="ray" name="sonar">
          <pose>0.25 0 0 0 0 0</pose>
          <update_rate>5</update_rate>
          <ray>
            <scan>
              <horizontal>
                <samples>5</samples>
                <resolution>1.0</resolution>
                <min_angle>-0.15</min_angle>
                <max_angle>0.15</max_angle>
              </horizontal>
              <vertical>
                <samples>5</samples>
                <resolution>1</resolution>
                <min_angle>-0.15</min_angle>
                <max_angle>0.15</max_angle>
              </vertical>
            </scan>
            <range>
              <min>0.04</min>
              <max>0.90</max>
              <resolution>0.01</resolution>
            </range>
          </ray>
          <plugin filename="libgazebo_ros_range.so" name="gazebo_ros_range">
            <gaussianNoise>0.005</gaussianNoise>
            <alwaysOn>true</alwaysOn>
            <updateRate>5</updateRate>
            <topicName>sonar</topicName>
            <frameName>ultrasonic_sensor</frameName>
            <fov>0.5</fov>
            <radiation>ultrasound</radiation>
          </plugin>
        </sensor>
  </gazebo>

  <!-- Gazebo references for materials -->
  <gazebo 
    reference="neumatic_1">
    <mu1>0.1</mu1>
    <mu2>0.1</mu2>
    <kp>500000.0</kp>
    <kd>10.0</kd>
    <minDepth>0.001</minDepth>
    <maxVel>0.1</maxVel>
    <fdir1>1 0 0</fdir1>
    <material>Gazebo/FlatBlack</material>
  </gazebo>
  <gazebo 
    reference="neumatic_2">
    <mu1>0.1</mu1>
    <mu2>0.1</mu2>
    <kp>500000.0</kp>
    <kd>10.0</kd>
    <minDepth>0.001</minDepth>
    <maxVel>0.1</maxVel>
    <fdir1>1 0 0</fdir1>
    <material>Gazebo/FlatBlack</material>
  </gazebo>
  <gazebo 
    reference="neumatic_3">
    <mu1>0.1</mu1>
    <mu2>0.1</mu2>
    <kp>500000.0</kp>
    <kd>10.0</kd>
    <minDepth>0.001</minDepth>
    <maxVel>0.1</maxVel>
    <fdir1>1 0 0</fdir1>
    <material>Gazebo/FlatBlack</material>
  </gazebo>
  <gazebo 
    reference="neumatic_4">
    <mu1>0.1</mu1>
    <mu2>0.1</mu2>
    <kp>500000.0</kp>
    <kd>10.0</kd>
    <minDepth>0.001</minDepth>
    <maxVel>0.1</maxVel>
    <fdir1>1 0 0</fdir1>
    <material>Gazebo/FlatBlack</material>
  </gazebo>
  <gazebo reference="base_link">
    <material>Gazebo/FlatBlack</material>
  </gazebo>
  <gazebo reference="support_1">
    <material>Gazebo/Grey</material>
  </gazebo>
  <gazebo reference="motor_1">
    <material>Gazebo/Yellow</material>
  </gazebo>
  <gazebo reference="shaft_1">
    <material>Gazebo/Grey</material>
  </gazebo>
  <gazebo reference="ring_1">
    <material>Gazebo/Yellow</material>
  </gazebo>
  <gazebo reference="support_2">
    <material>Gazebo/Grey</material>
  </gazebo>
  <gazebo reference="motor_2">
    <material>Gazebo/Yellow</material>
  </gazebo>
  <gazebo reference="shaft_2">
    <material>Gazebo/Grey</material>
  </gazebo>
  <gazebo reference="ring_2">
    <material>Gazebo/Yellow</material>
  </gazebo>
  <gazebo reference="support_3">
    <material>Gazebo/Grey</material>
  </gazebo>
  <gazebo reference="motor_3">
    <material>Gazebo/Yellow</material>
  </gazebo>
  <gazebo reference="shaft_3">
    <material>Gazebo/Grey</material>
  </gazebo>
  <gazebo reference="ring_3">
    <material>Gazebo/Yellow</material>
  </gazebo>
  <gazebo reference="support_4">
    <material>Gazebo/Grey</material>
  </gazebo>
  <gazebo reference="motor_4">
    <material>Gazebo/Yellow</material>
  </gazebo>
  <gazebo reference="shaft_4">
    <material>Gazebo/Grey</material>
  </gazebo>
  <gazebo reference="ring_4">
    <material>Gazebo/Yellow</material>
  </gazebo>
  <gazebo reference="hex_support_1">
    <material>Gazebo/Gold</material>
  </gazebo>
  <gazebo reference="hex_support_2">
    <material>Gazebo/Gold</material>
  </gazebo>
  <gazebo reference="hex_support_3">
    <material>Gazebo/Gold</material>
  </gazebo>
  <gazebo reference="hex_support_4">
    <material>Gazebo/Gold</material>
  </gazebo>
  <gazebo reference="hex_support_5">
    <material>Gazebo/Gold</material>
  </gazebo>
  <gazebo reference="hex_support_6">
    <material>Gazebo/Gold</material>
  </gazebo>
  <gazebo reference="medium_plate">
    <material>Gazebo/FlatBlack</material>
  </gazebo>
  <gazebo reference="batery">
    <material>Gazebo/FlatBlack</material>
  </gazebo>
  <gazebo reference="arduino">
    <material>Gazebo/DarkGray</material>
  </gazebo>
  <gazebo reference="servo_base">
    <material>Gazebo/Black</material>
  </gazebo>
  <gazebo reference="servo">
    <material>Gazebo/Blue</material>
  </gazebo>
  <gazebo reference="servo_shaft">
    <material>Gazebo/Grey</material>
  </gazebo>
  <gazebo reference="ultrasonic_support">
    <material>Gazebo/Black</material>
  </gazebo>
  <gazebo reference="ultrasonic_sensor">
    <material>Gazebo/Blue</material>
  </gazebo>
 
</robot>
